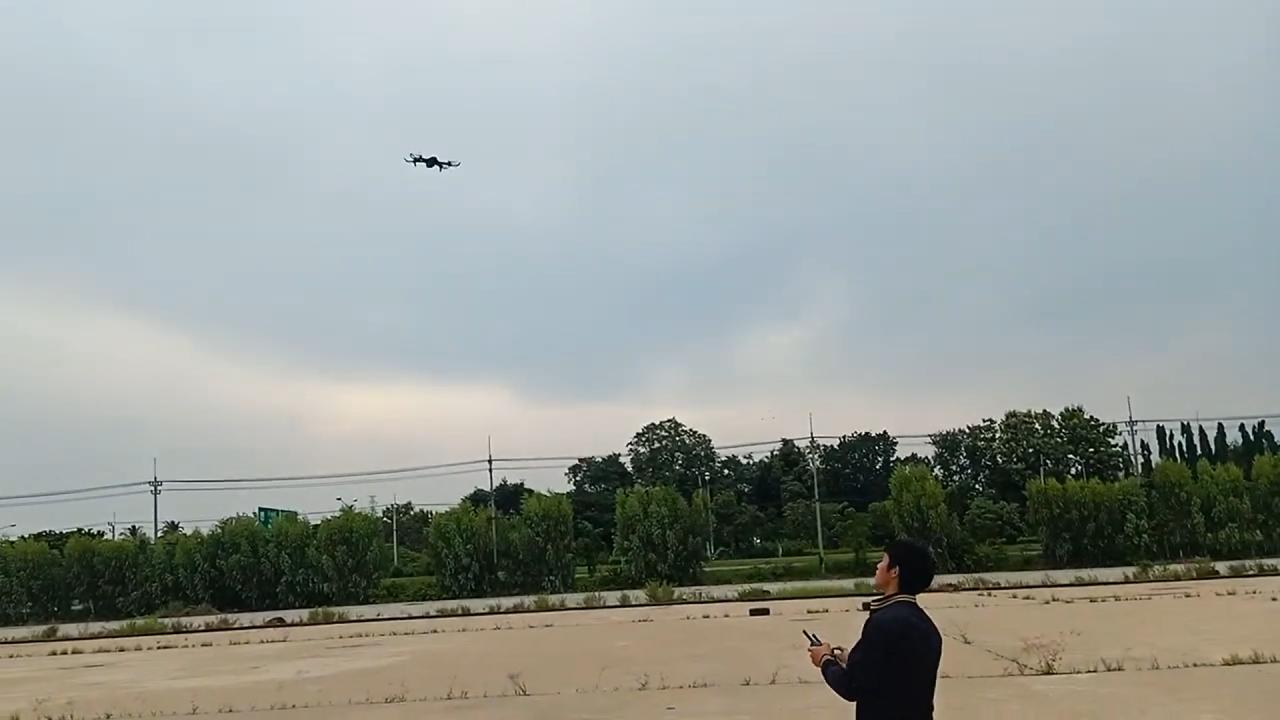Drone: (396, 143, 469, 184)
